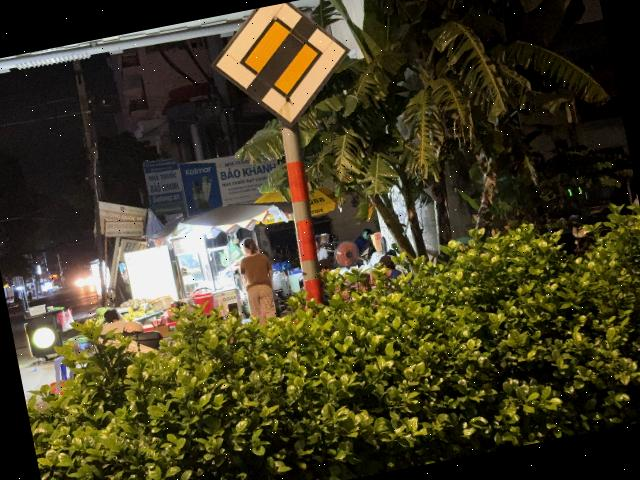het-duong-uu-tien: (200, 0, 362, 141)
